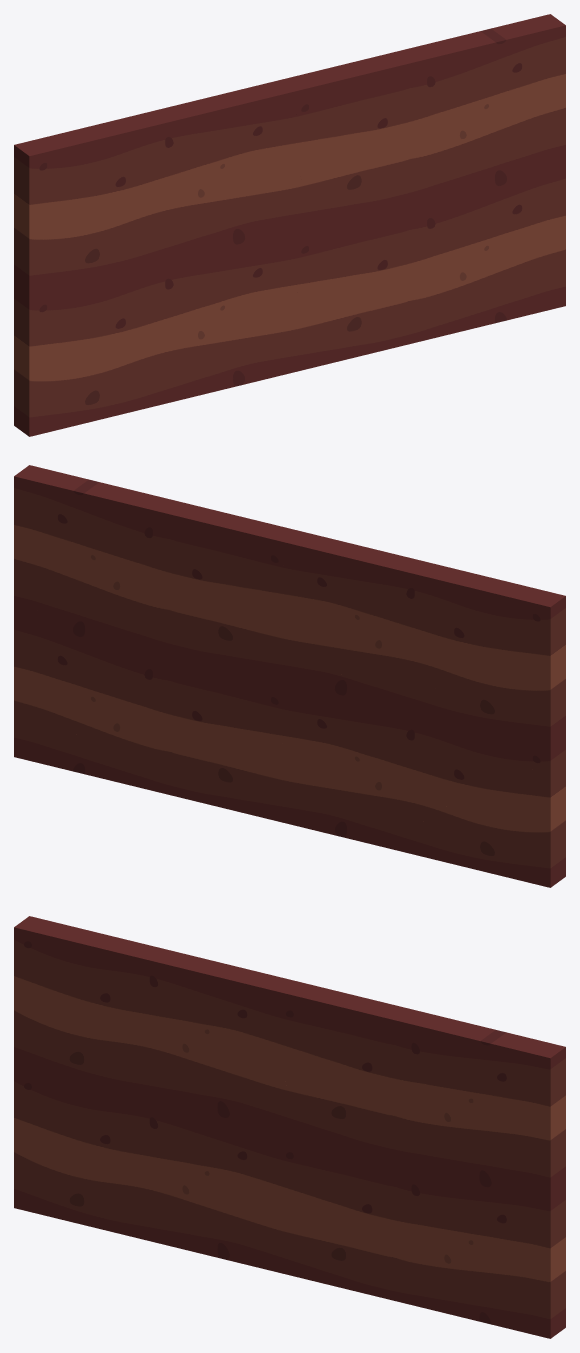
File: dig (2).fbx
The picture shows the model from 3 angles, top to bottom: view 1: azimuth 30°, elevation 25°; view 2: azimuth 150°, elevation 25°; view 3: azimuth 330°, elevation 25°; orthographic projection.
Visible parts, largest first — view 1: Plane.004, Plane.121, Plane.261, Plane.006, Plane.146, Plane.144, Plane.150, Plane.010, Plane.005, Plane.145, Plane.147, Plane.007 (+150 smaller); view 2: Plane.004, Plane.121, Plane.261, Plane.006, Plane.146, Plane.144, Plane.150, Plane.010, Plane.005, Plane.145, Plane.147, Plane.007 (+150 smaller); view 3: Plane.261, Plane.121, Plane.146, Plane.004, Plane.006, Plane.144, Plane.010, Plane.150, Plane.145, Plane.005, Plane.148, Plane.153 (+149 smaller).
Part boxes in pixels (box(x1,y1,x2,y2)): Plane.004: box(14, 138, 69, 188); Plane.121: box(131, 294, 186, 370); Plane.261: box(399, 229, 454, 305); Plane.006: box(74, 122, 131, 172); Plane.146: box(343, 56, 399, 106); Plane.144: box(282, 72, 337, 115); Plane.150: box(376, 47, 430, 90); Plane.010: box(108, 112, 162, 155); Plane.005: box(43, 130, 90, 179); Plane.145: box(311, 65, 358, 114); Plane.147: box(442, 34, 486, 75); Plane.007: box(173, 99, 218, 140); Plane.004: box(510, 589, 565, 639); Plane.121: box(393, 745, 448, 821); Plane.261: box(125, 680, 180, 756); Plane.006: box(448, 573, 505, 623); Plane.146: box(180, 507, 236, 557); Plane.144: box(242, 523, 297, 566); Plane.150: box(149, 498, 203, 541); Plane.010: box(417, 563, 471, 606); Plane.005: box(489, 581, 536, 630); Plane.145: box(221, 516, 268, 565); Plane.147: box(93, 485, 137, 526); Plane.007: box(361, 550, 406, 591); Plane.261: box(384, 1192, 438, 1280); Plane.121: box(115, 1126, 170, 1214); Plane.146: box(342, 996, 390, 1045); Plane.004: box(14, 916, 57, 966); Plane.006: box(74, 931, 122, 979); Plane.144: box(281, 981, 325, 1032); Plane.010: box(107, 939, 161, 982); Plane.150: box(376, 1004, 429, 1047); Plane.145: box(311, 988, 357, 1039); Plane.005: box(42, 923, 89, 973); Plane.148: box(528, 1041, 565, 1084); Plane.153: box(513, 1116, 565, 1150).
Size of the model in its own units: 2 by 1 by 0.1.
1 material, 1 textured.
